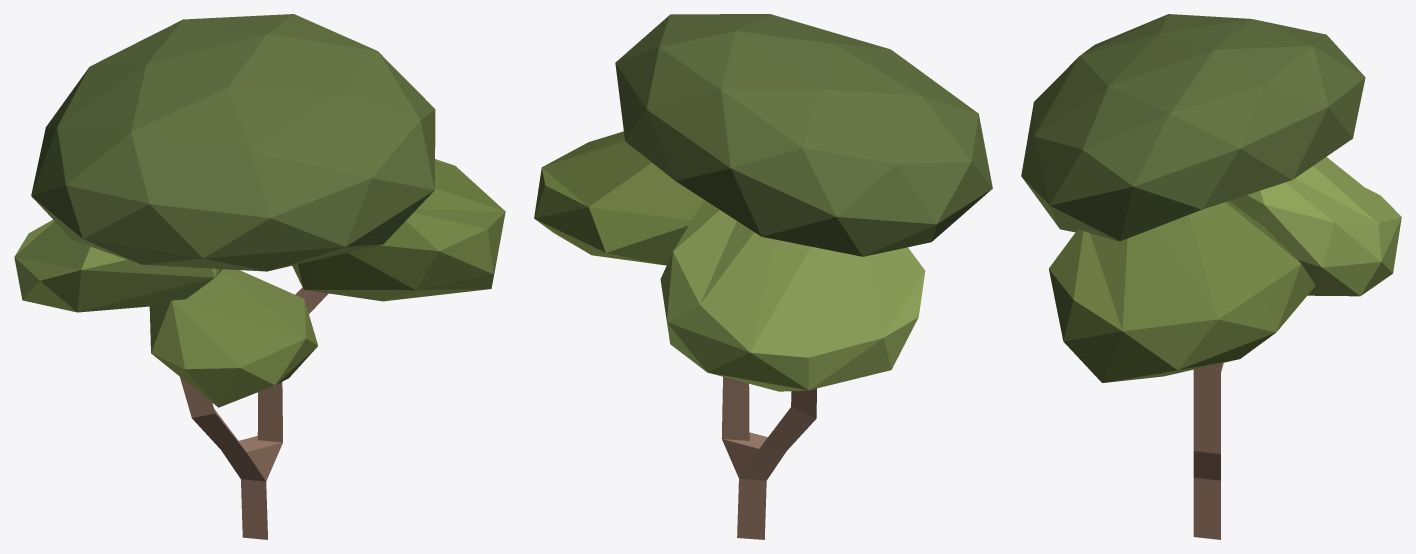
The model's file is Tree_Type3_02.glb.
3 views of the same model, side by side, from view 1: azimuth 30°, elevation 25°; view 2: azimuth 150°, elevation 25°; view 3: azimuth 270°, elevation 25° (orthographic). The views are drawn at different scales.
Parts seen in each view (by area): view 1: Tree Type3 02 Model; view 2: Tree Type3 02 Model; view 3: Tree Type3 02 Model.
Part boxes in pixels (x1,y1,x2,y2): Tree Type3 02 Model: (14, 14, 505, 539); Tree Type3 02 Model: (534, 14, 992, 539); Tree Type3 02 Model: (1021, 14, 1401, 539).
Bounding box in the file's own units: 2.35 × 2.67 × 1.87.
Materials: 1 (1 with a texture image).
